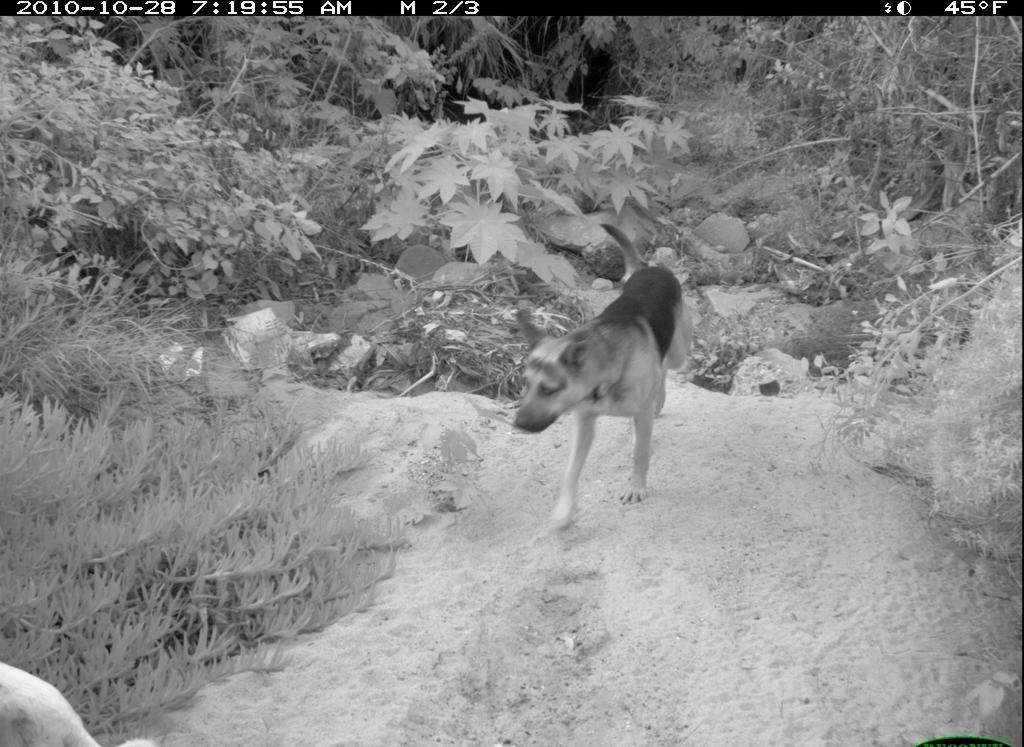dog: (504, 260, 689, 532)
